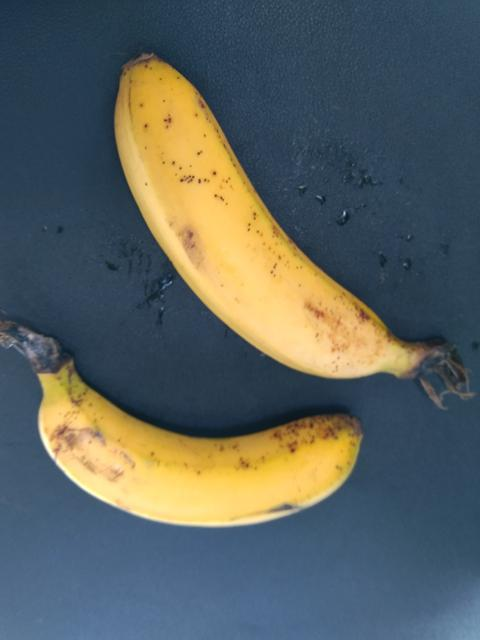ripe: (115, 34, 404, 389), (43, 371, 389, 569)
